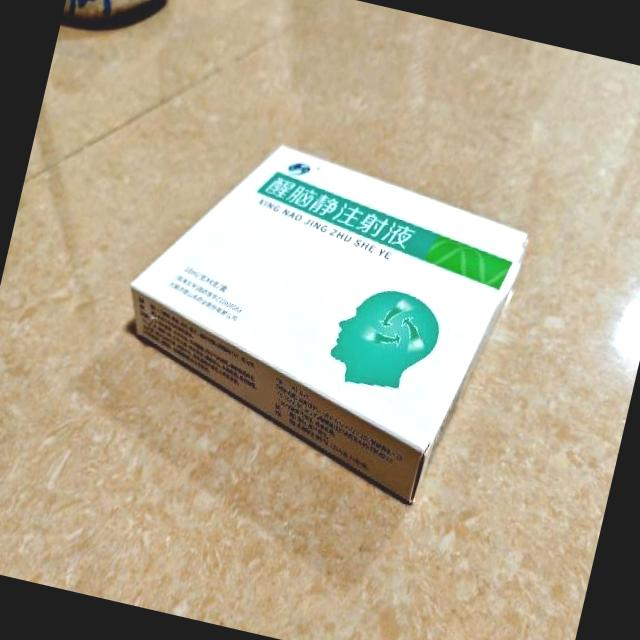box: (98, 116, 536, 514)
